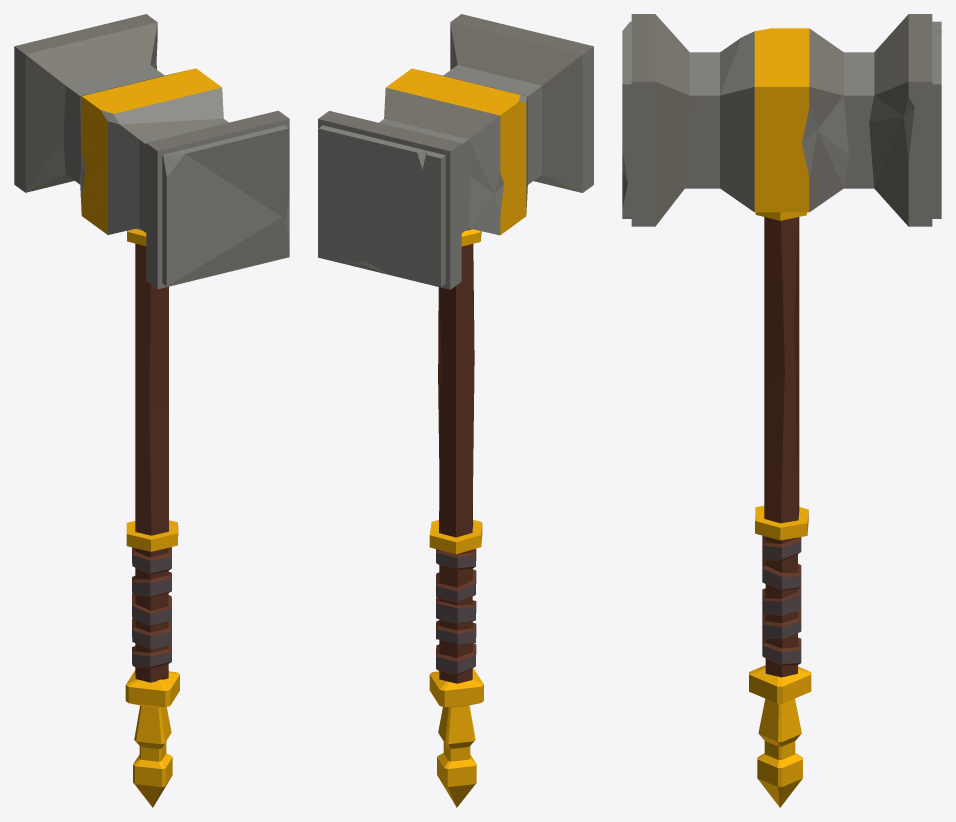
The model's file is MARRETA.fbx.
The picture shows the model from 3 angles, left to right: view 1: azimuth 30°, elevation 25°; view 2: azimuth 150°, elevation 25°; view 3: azimuth 270°, elevation 25°; orthographic projection. The views are drawn at different scales.
Visible parts, largest first — view 1: SM_Wep_Hammer_05; view 2: SM_Wep_Hammer_05; view 3: SM_Wep_Hammer_05.
Boxes of the visible parts, x1,y1,x2,y2 form: SM_Wep_Hammer_05: (14,14,289,807); SM_Wep_Hammer_05: (318,14,593,807); SM_Wep_Hammer_05: (622,14,941,807).
Size of the model in its own units: 23.74 by 124 by 47.34.
